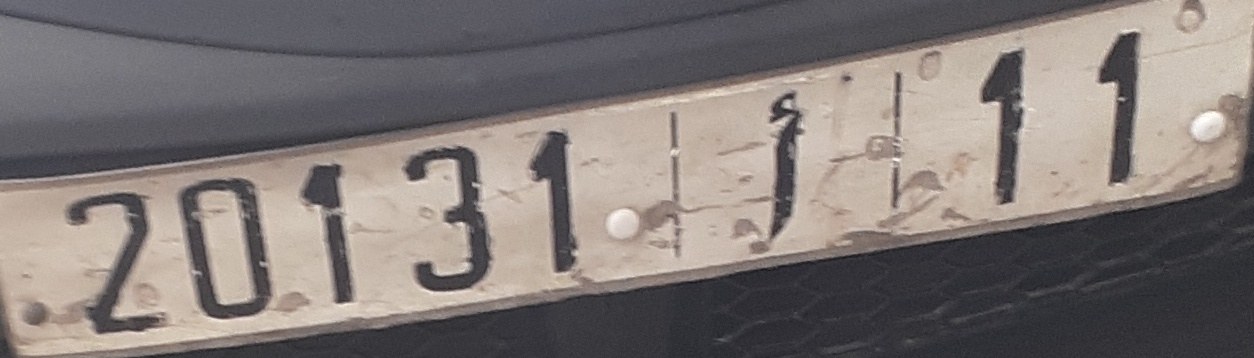1: (518, 122, 596, 277), (1088, 20, 1150, 197), (296, 161, 370, 308), (977, 41, 1029, 211)
2: (65, 190, 172, 339)
3: (177, 174, 277, 326), (396, 143, 492, 295)
a: (756, 90, 809, 249)
